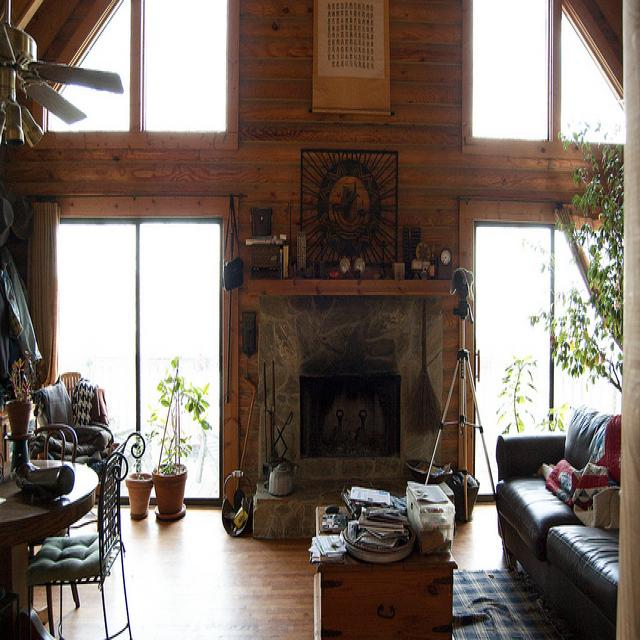chair: (22, 428, 147, 640), (27, 423, 79, 632)
dining table: (0, 459, 99, 550)
